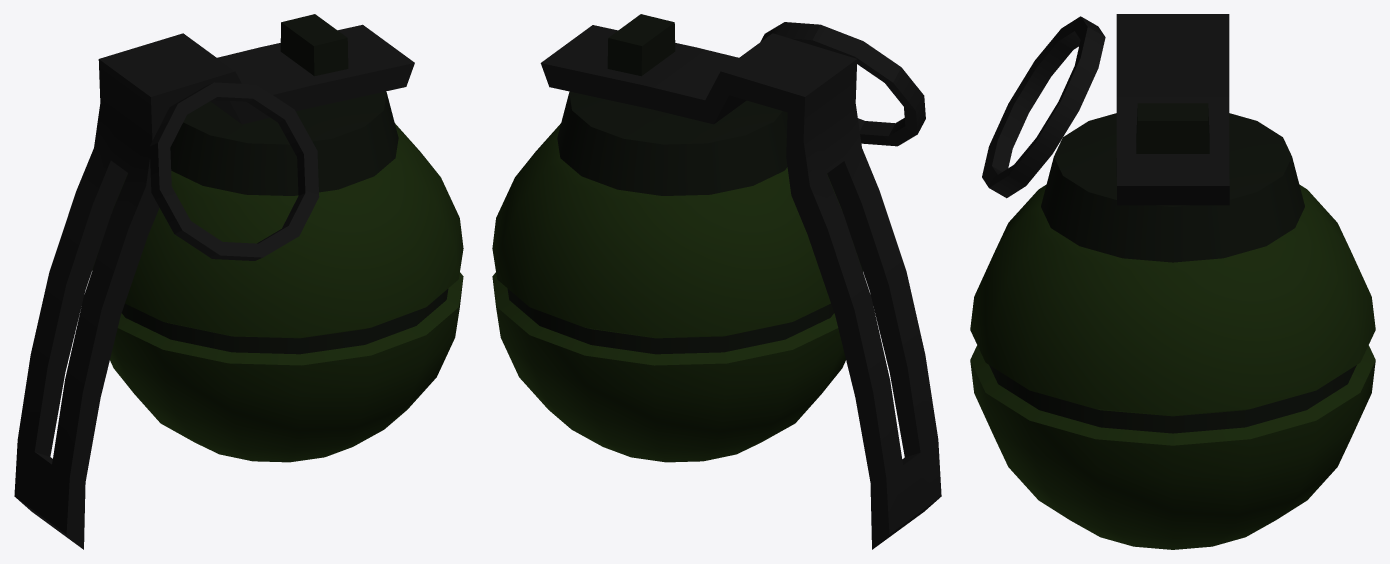
The model's file is Grenade.obj.
3 views of the same model, side by side, from view 1: azimuth 30°, elevation 25°; view 2: azimuth 150°, elevation 25°; view 3: azimuth 270°, elevation 25° (orthographic). The views are drawn at different scales.
Parts seen in each view (by area): view 1: Grenade_Sphere.001; view 2: Grenade_Sphere.001; view 3: Grenade_Sphere.001.
Boxes of the visible parts, x1,y1,x2,y2 form: Grenade_Sphere.001: [14, 14, 463, 549]; Grenade_Sphere.001: [492, 14, 941, 549]; Grenade_Sphere.001: [970, 14, 1375, 549].
Size of the model in its own units: 0.5637 by 0.6051 by 0.459.
